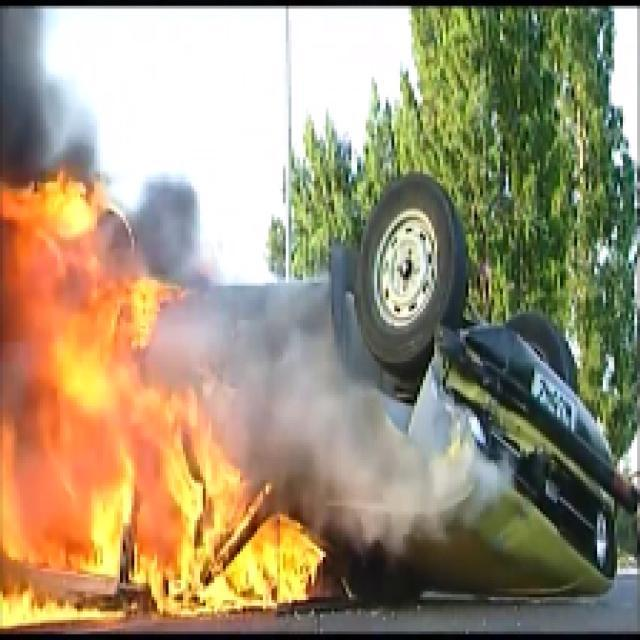Fire: (2, 175, 332, 640)
Smoke: (254, 300, 452, 537), (3, 3, 60, 163)
